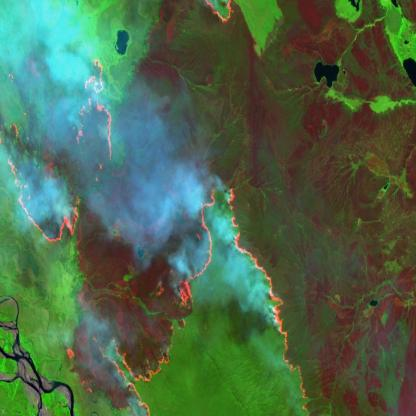fire: (0, 0, 316, 416)
